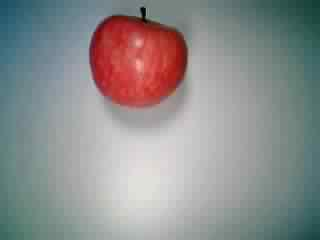apple: (87, 6, 191, 107)
